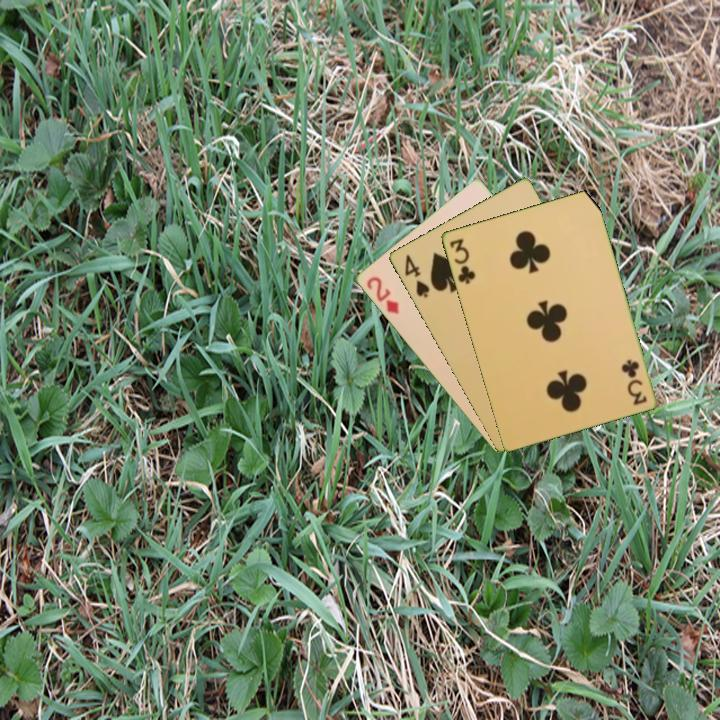2d: (362, 273, 402, 317)
3c: (446, 235, 478, 287), (619, 356, 649, 408)
4s: (401, 250, 432, 301)
